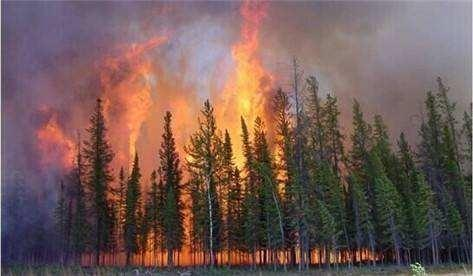fire: (24, 3, 379, 265)
